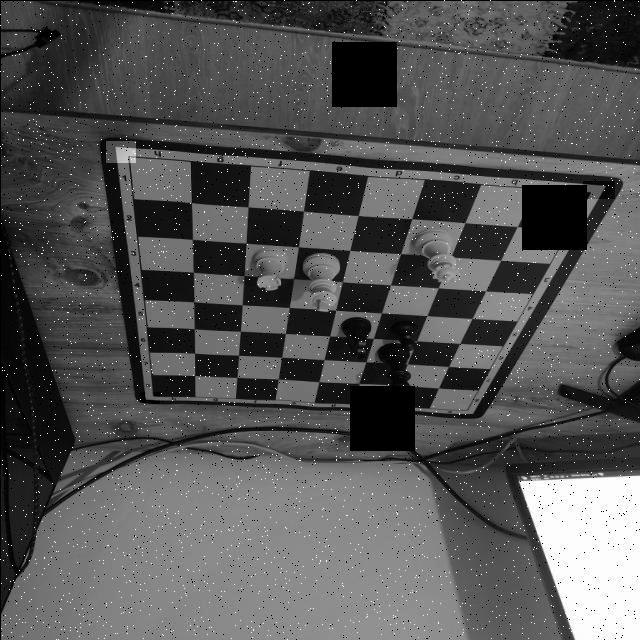chess-table-corners: (105, 140, 135, 162), (582, 180, 614, 198), (457, 403, 481, 418), (139, 391, 159, 404)
